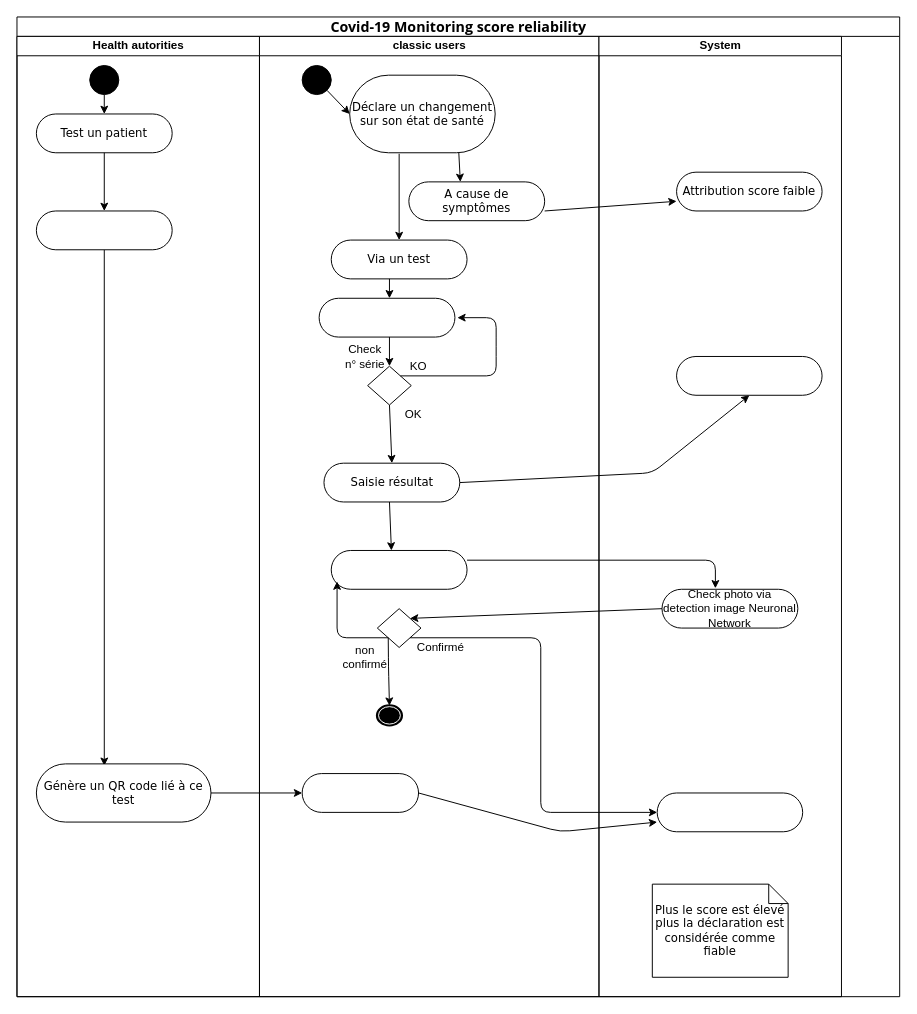
The diagram is 917 pixels wide and 1014 high, and some of its shapes have lost their labels. Here are the shapes that lost their labels. From the top down, the centre of each, then its label:
(103,230): Entre résultat du test
(386,317): Saisie n° série du test
(749,375): Attribution score moyen
(398,569): Envoit photo résultat
(360,792): Scan du QR code
(729,812): Attribution score élevé
